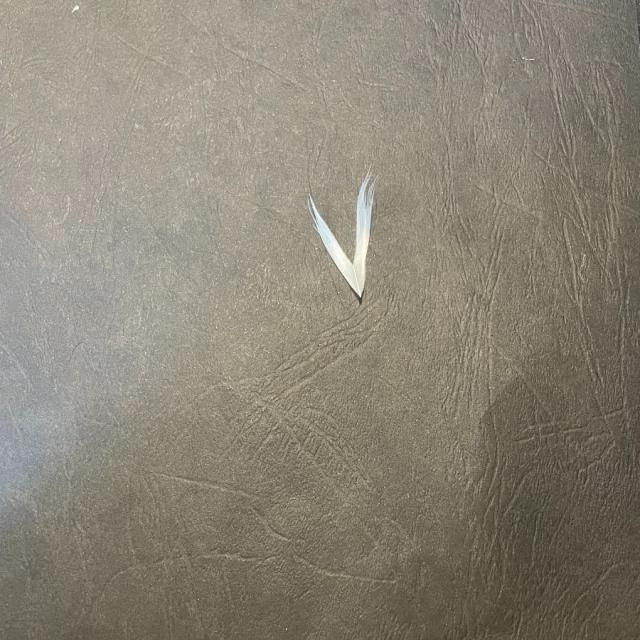feather: (306, 166, 382, 307)
